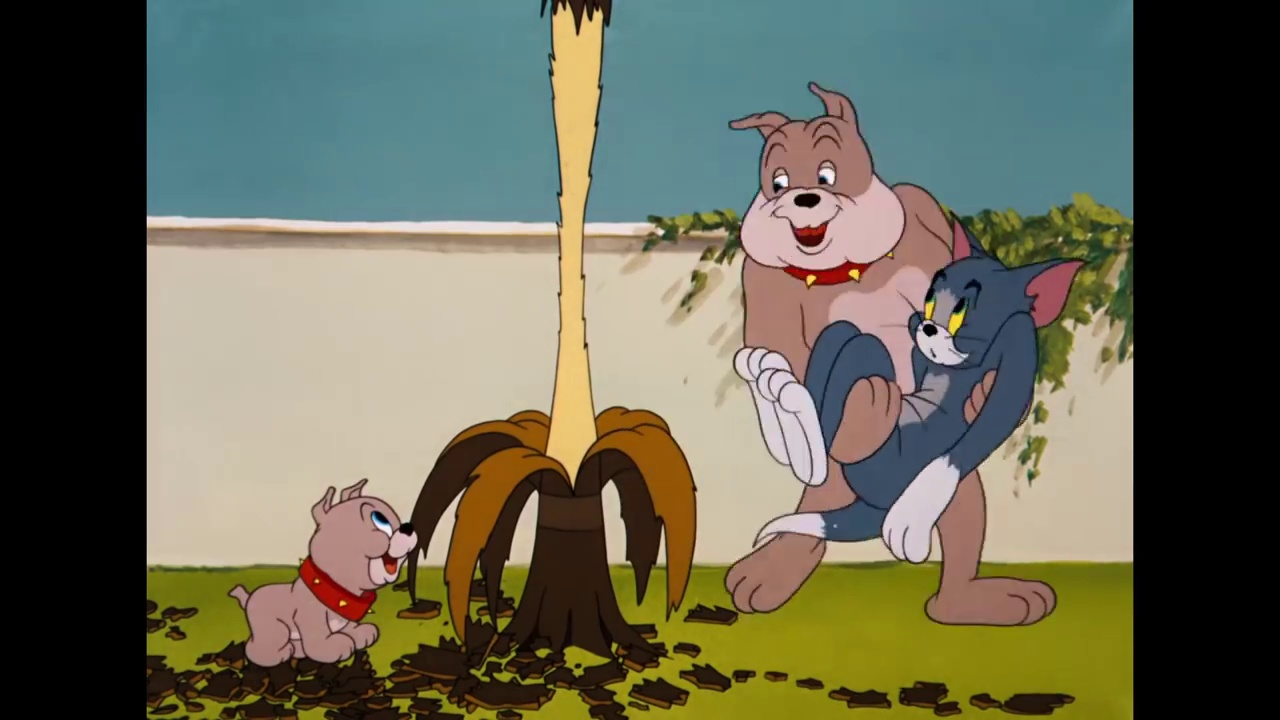spike: (726, 75, 909, 295)
tom: (906, 211, 1088, 372)
